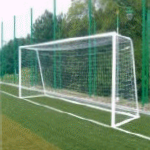goals: (16, 29, 141, 131)
